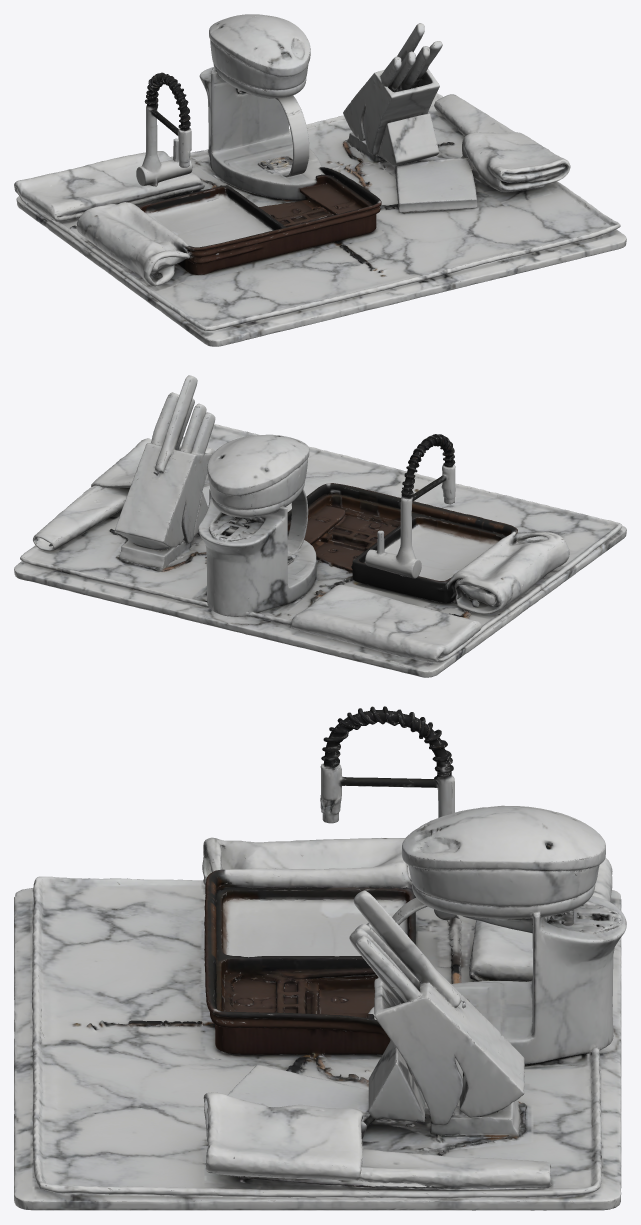
Rendered from food.glb.
The picture shows the model from 3 angles, top to bottom: view 1: azimuth 30°, elevation 25°; view 2: azimuth 150°, elevation 25°; view 3: azimuth 270°, elevation 25°; orthographic projection. The views are drawn at different scales.
Bounding box in the file's own units: 62381 × 22779 × 50426.
1 material, 1 textured.
